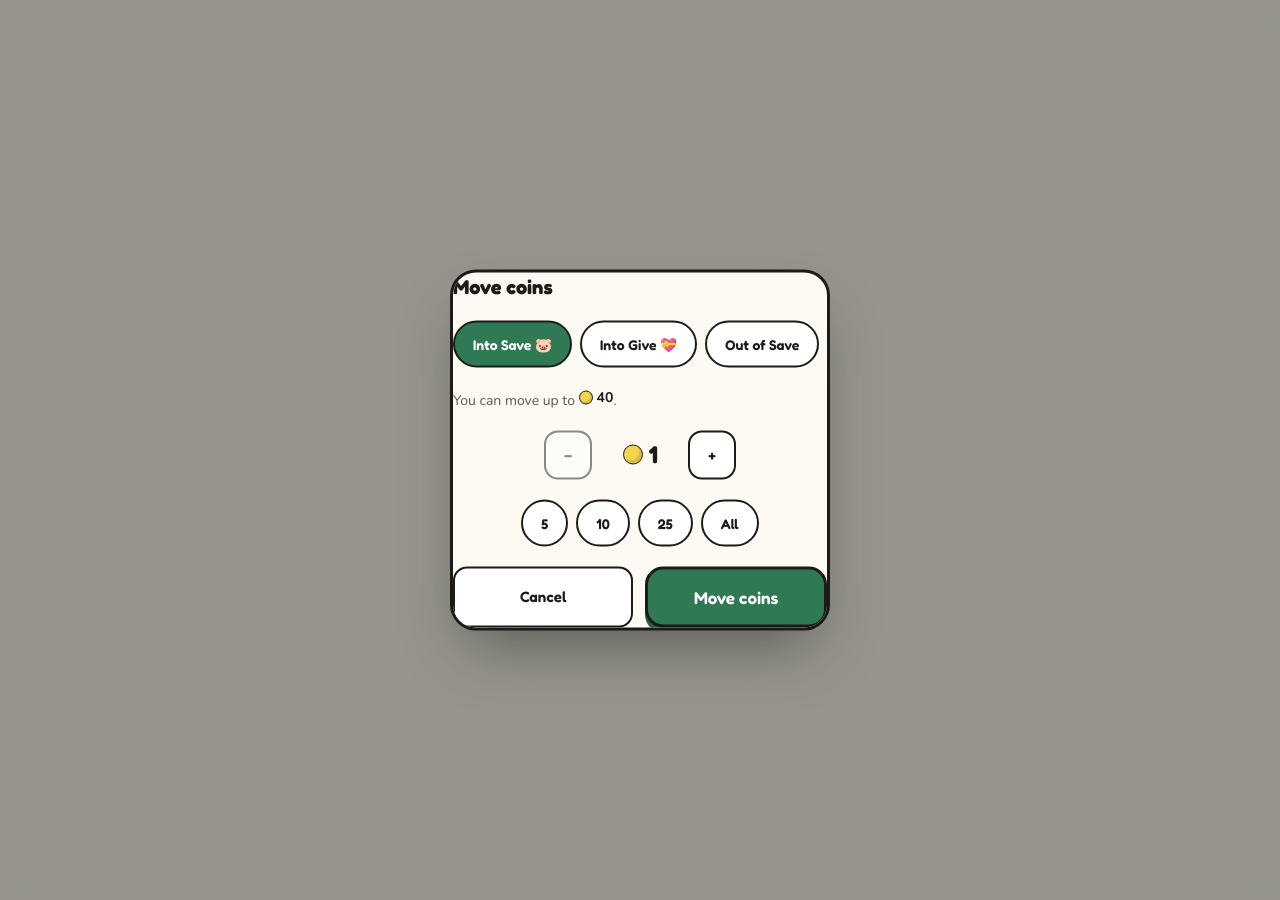
Test: JarAllocator › surfaces the server's message and stays open on failure
Click the button "Move coins".
click(736, 597)  # box [645, 566, 827, 628]
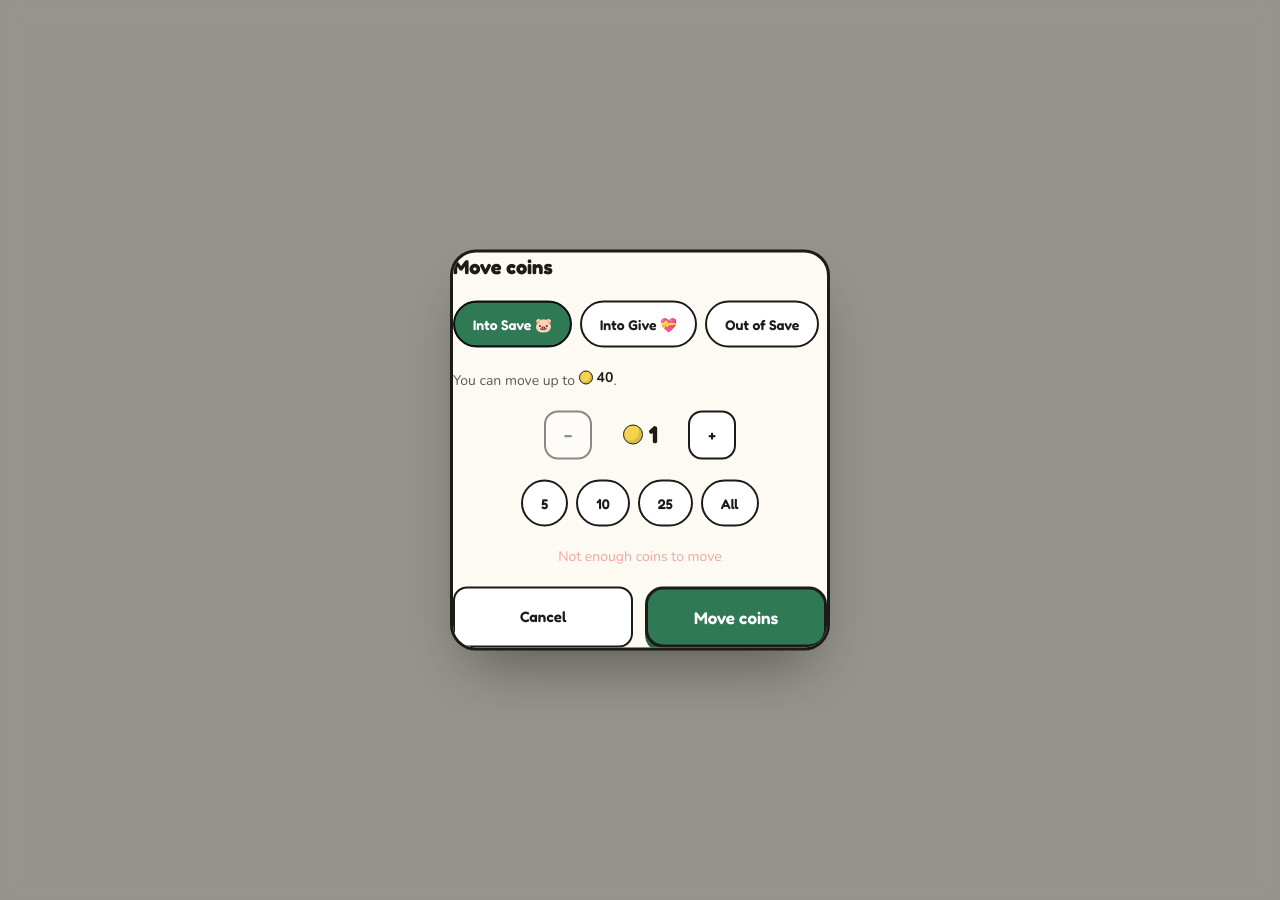
Check: the message reads "Not enough coins to move", box [558, 546, 722, 565]
